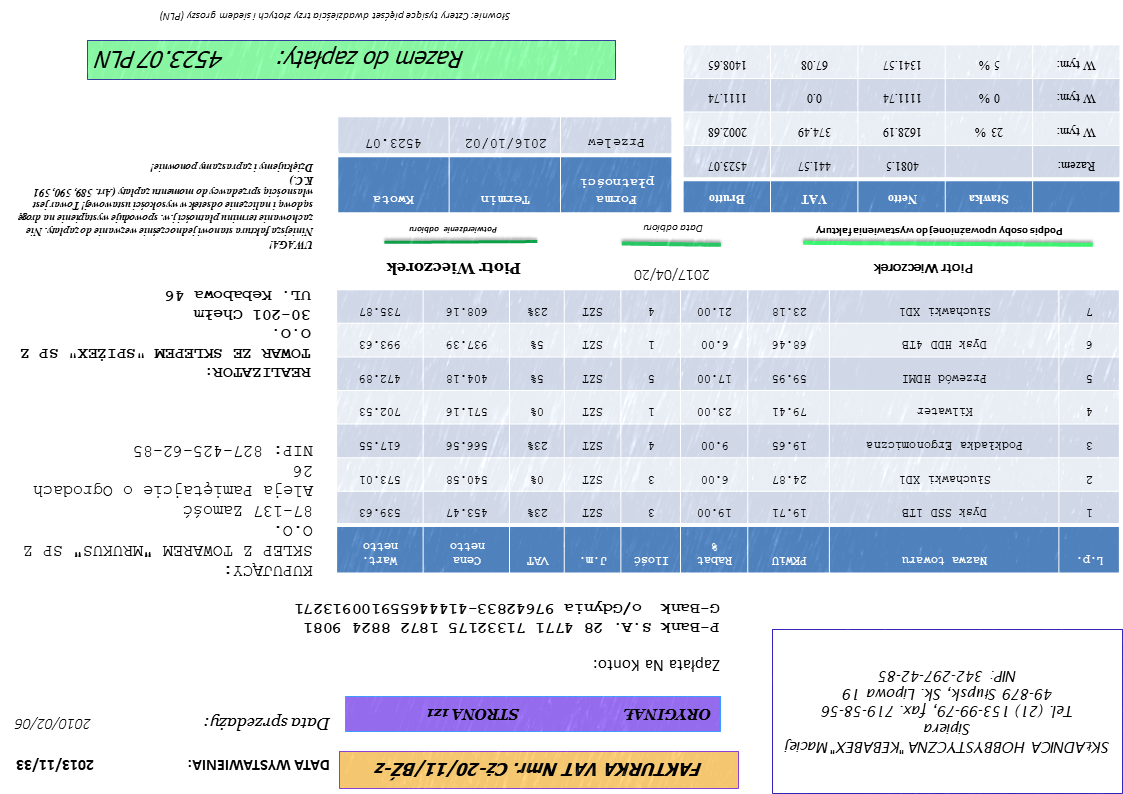Table: (335, 288, 1122, 576), (682, 43, 1122, 215), (336, 116, 674, 216)
TextBox: (18, 439, 317, 582), (780, 665, 1113, 759), (12, 157, 318, 255), (16, 285, 314, 382), (290, 597, 723, 638), (91, 47, 468, 74), (368, 756, 705, 784), (425, 705, 714, 727), (157, 9, 515, 25), (814, 222, 1066, 240), (199, 711, 333, 737), (589, 655, 723, 676), (186, 756, 332, 775), (385, 260, 524, 278), (868, 260, 979, 278), (633, 264, 713, 285), (11, 755, 98, 774), (11, 715, 96, 733), (408, 223, 500, 237), (642, 221, 707, 237)
